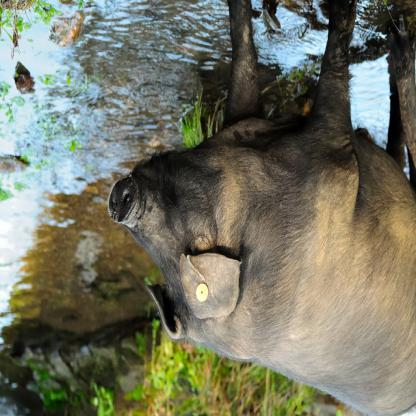boar: (109, 0, 416, 416)
